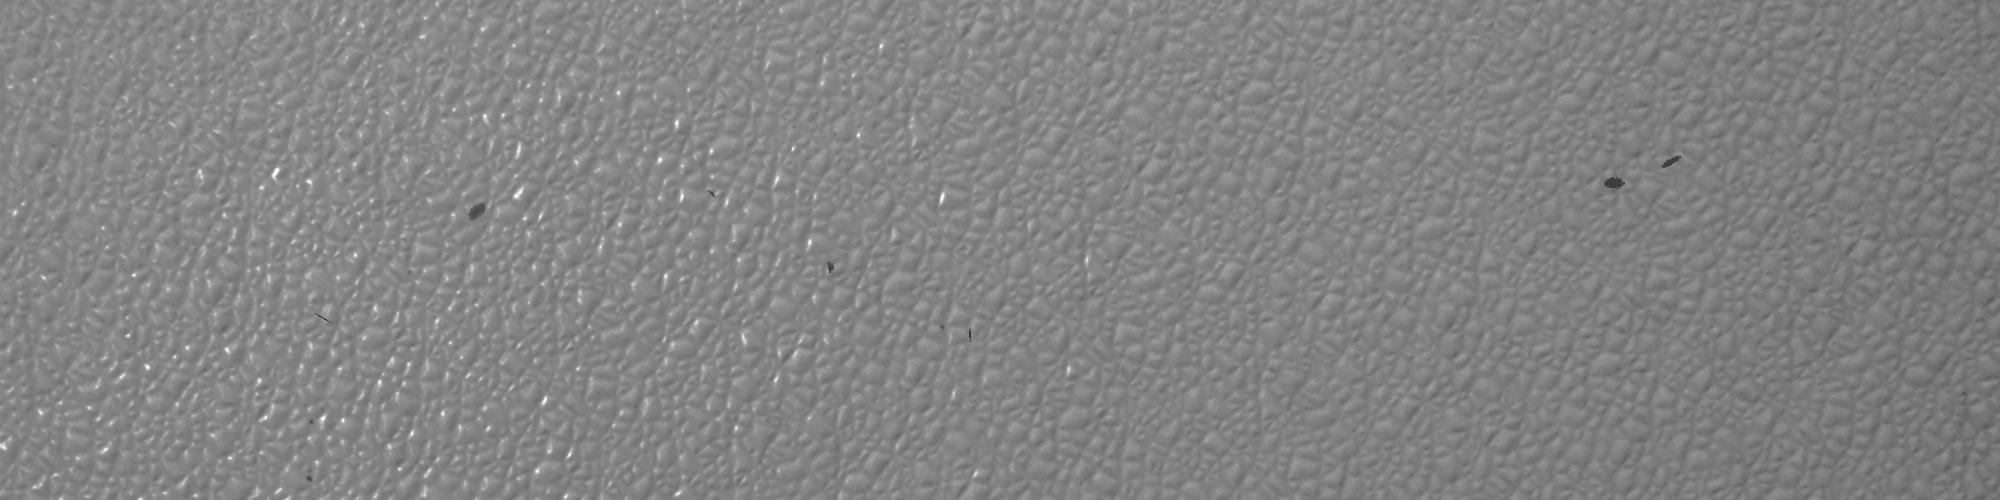Decomposed: (1597, 168, 1630, 195), (307, 305, 341, 332), (464, 200, 497, 223), (1654, 145, 1672, 172), (700, 184, 724, 203), (825, 261, 846, 276), (964, 329, 980, 343), (302, 472, 315, 483), (305, 415, 314, 426)
